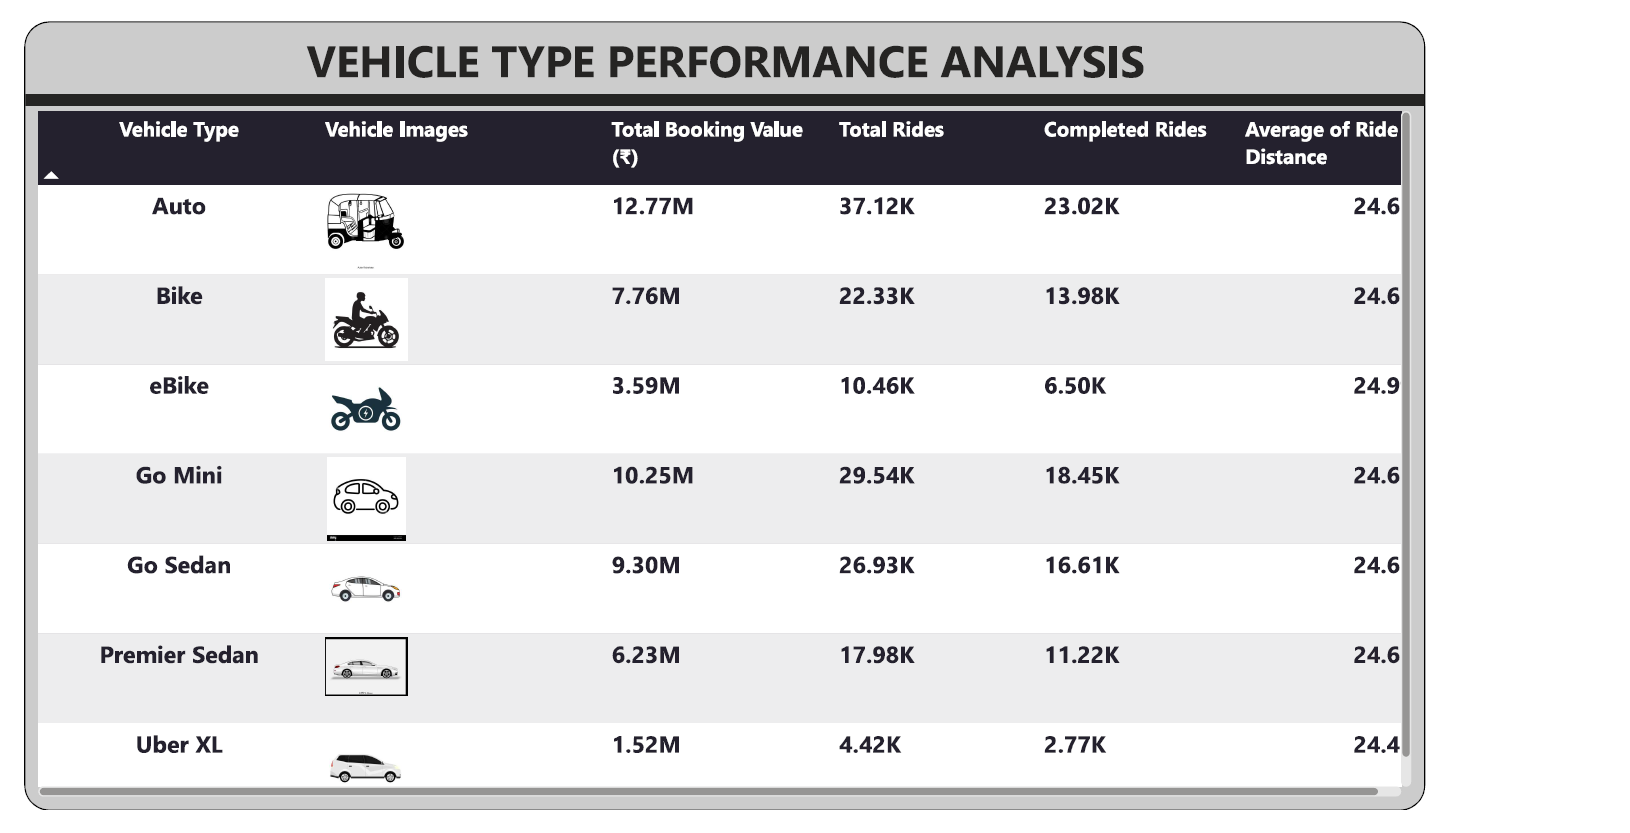

The page's visual inventory and layout, read from the dashboard file:
{"tool":"powerbi","page":{"name":"Vehicle Type","canvas":[1280,720],"ordinal":2},"visuals":[{"type":"pivotTable","title":"VEHICLE TYPE PERFORMANCE ANALYSIS","fields":{"Values":["Min(VehicleType.Image URL)","Booking ID.Formatted Booking Value","Booking ID.Formatted Booking ID","Booking ID.Formatted Ride Distance","Avg(Uber_Data.Ride Distance)"],"Rows":["VehicleType.Vehicle Type"]},"box":[0,0,1280.5,720.7],"z":0}]}

Visuals, with their boxes on the page's 1280x720 design canvas (x1, y1, x2, y2). These are canvas units, not pixel positions in the 1630x833 screenshot, which may show the page scaled, cropped or inside an application window:
"VEHICLE TYPE PERFORMANCE ANALYSIS" pivotTable: locate(0, 0, 1280, 721)
